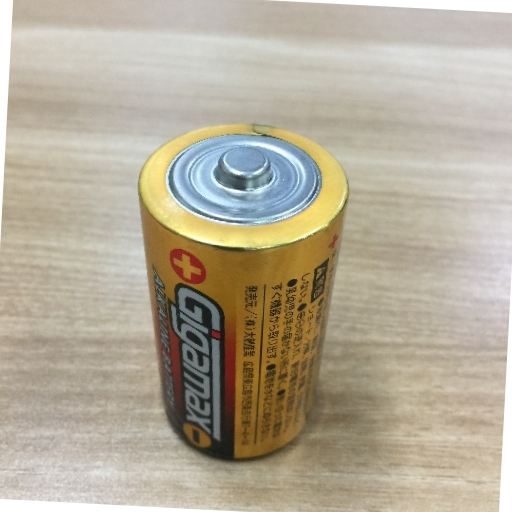Battery_0: (121, 112, 355, 467)
